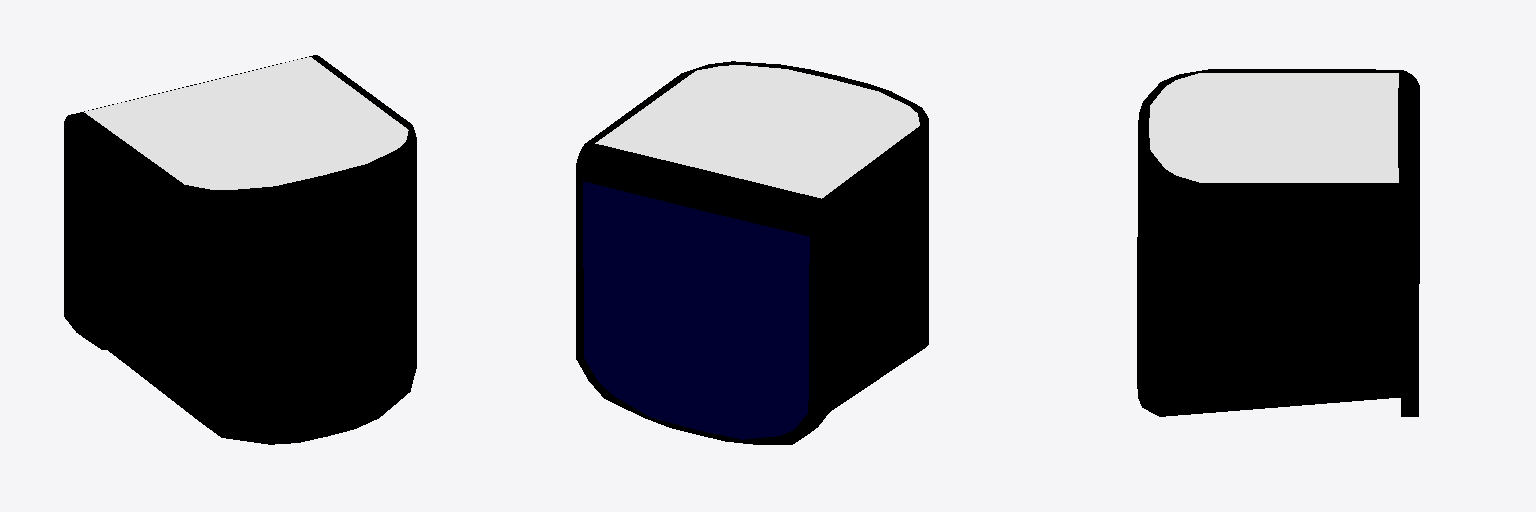
The model's file is edgeWB.obj.
3 renders of one model, left to right at view 1: azimuth 30°, elevation 25°; view 2: azimuth 150°, elevation 25°; view 3: azimuth 270°, elevation 25°, orthographic.
Visible parts, largest first — view 1: BasicEdge_Plane.006, EdgeSide1_Plane.008; view 2: EdgeSide2_Plane.009, BasicEdge_Plane.006, EdgeSide1_Plane.008; view 3: BasicEdge_Plane.006, EdgeSide1_Plane.008.
Boxes of the visible parts, x1=… form: BasicEdge_Plane.006: x1=64, y1=55, x2=416, y2=444; EdgeSide1_Plane.008: x1=84, y1=57, x2=408, y2=189; EdgeSide2_Plane.009: x1=583, y1=181, x2=809, y2=439; BasicEdge_Plane.006: x1=576, y1=61, x2=928, y2=444; EdgeSide1_Plane.008: x1=595, y1=65, x2=919, y2=198; BasicEdge_Plane.006: x1=1137, y1=69, x2=1419, y2=416; EdgeSide1_Plane.008: x1=1149, y1=73, x2=1398, y2=182.
Size of the model in its own units: 0.18 by 0.1802 by 0.182.